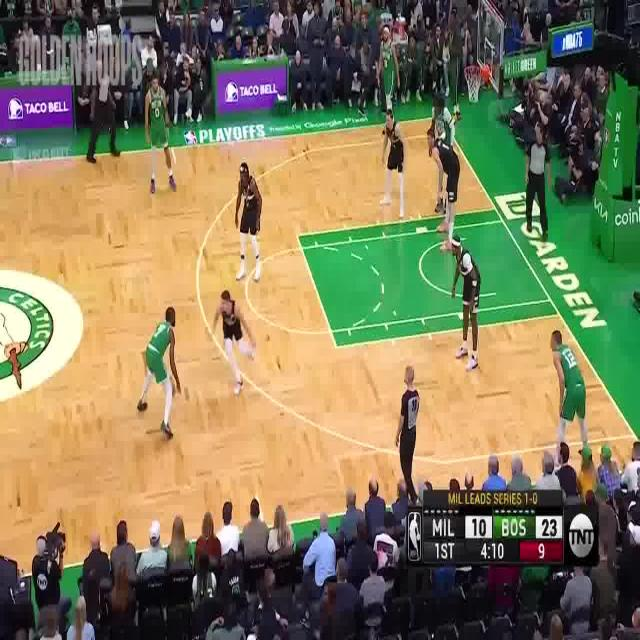ball-handler: (137, 303, 181, 444)
